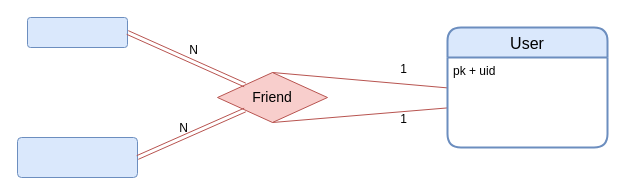
This 626x195 diagram has some shape labels left out. The shapes that lost their labels are listed below. From the top down, each one's centre as x and y in pixels, then its label:
At (77,32): "Blacklist".
At (77,157): "Message".
